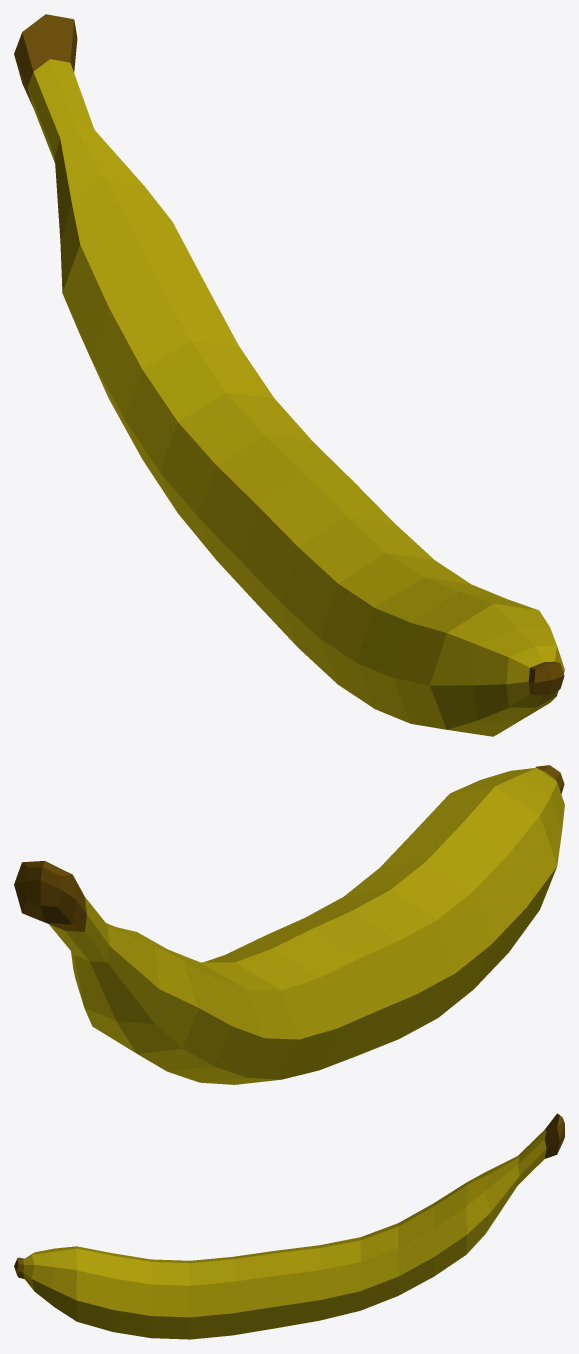
The model's file is banana_.fbx.
The picture shows the model from 3 angles, top to bottom: view 1: azimuth 30°, elevation 25°; view 2: azimuth 150°, elevation 25°; view 3: azimuth 270°, elevation 25°; orthographic projection. The views are drawn at different scales.
Parts seen in each view (by area): view 1: Cube; view 2: Cube; view 3: Cube.
Boxes of the visible parts, left/top/right/bottom form: Cube: left=14, top=14, right=564, bottom=736; Cube: left=14, top=765, right=564, bottom=1084; Cube: left=14, top=1113, right=564, bottom=1339.
Bounding box in the file's own units: 54.05 × 164 × 365.
